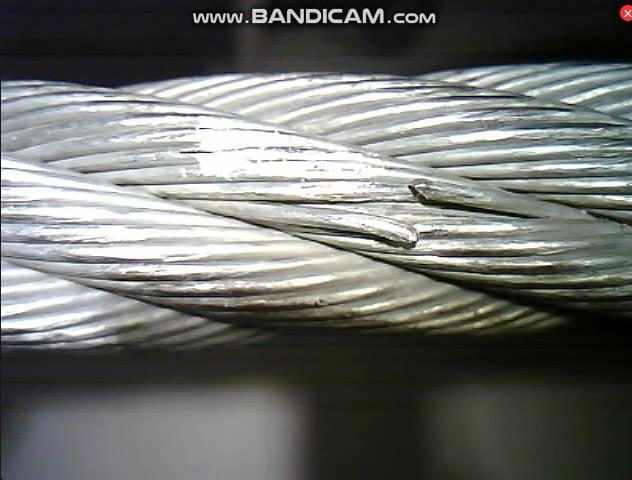break: (372, 173, 438, 253)
